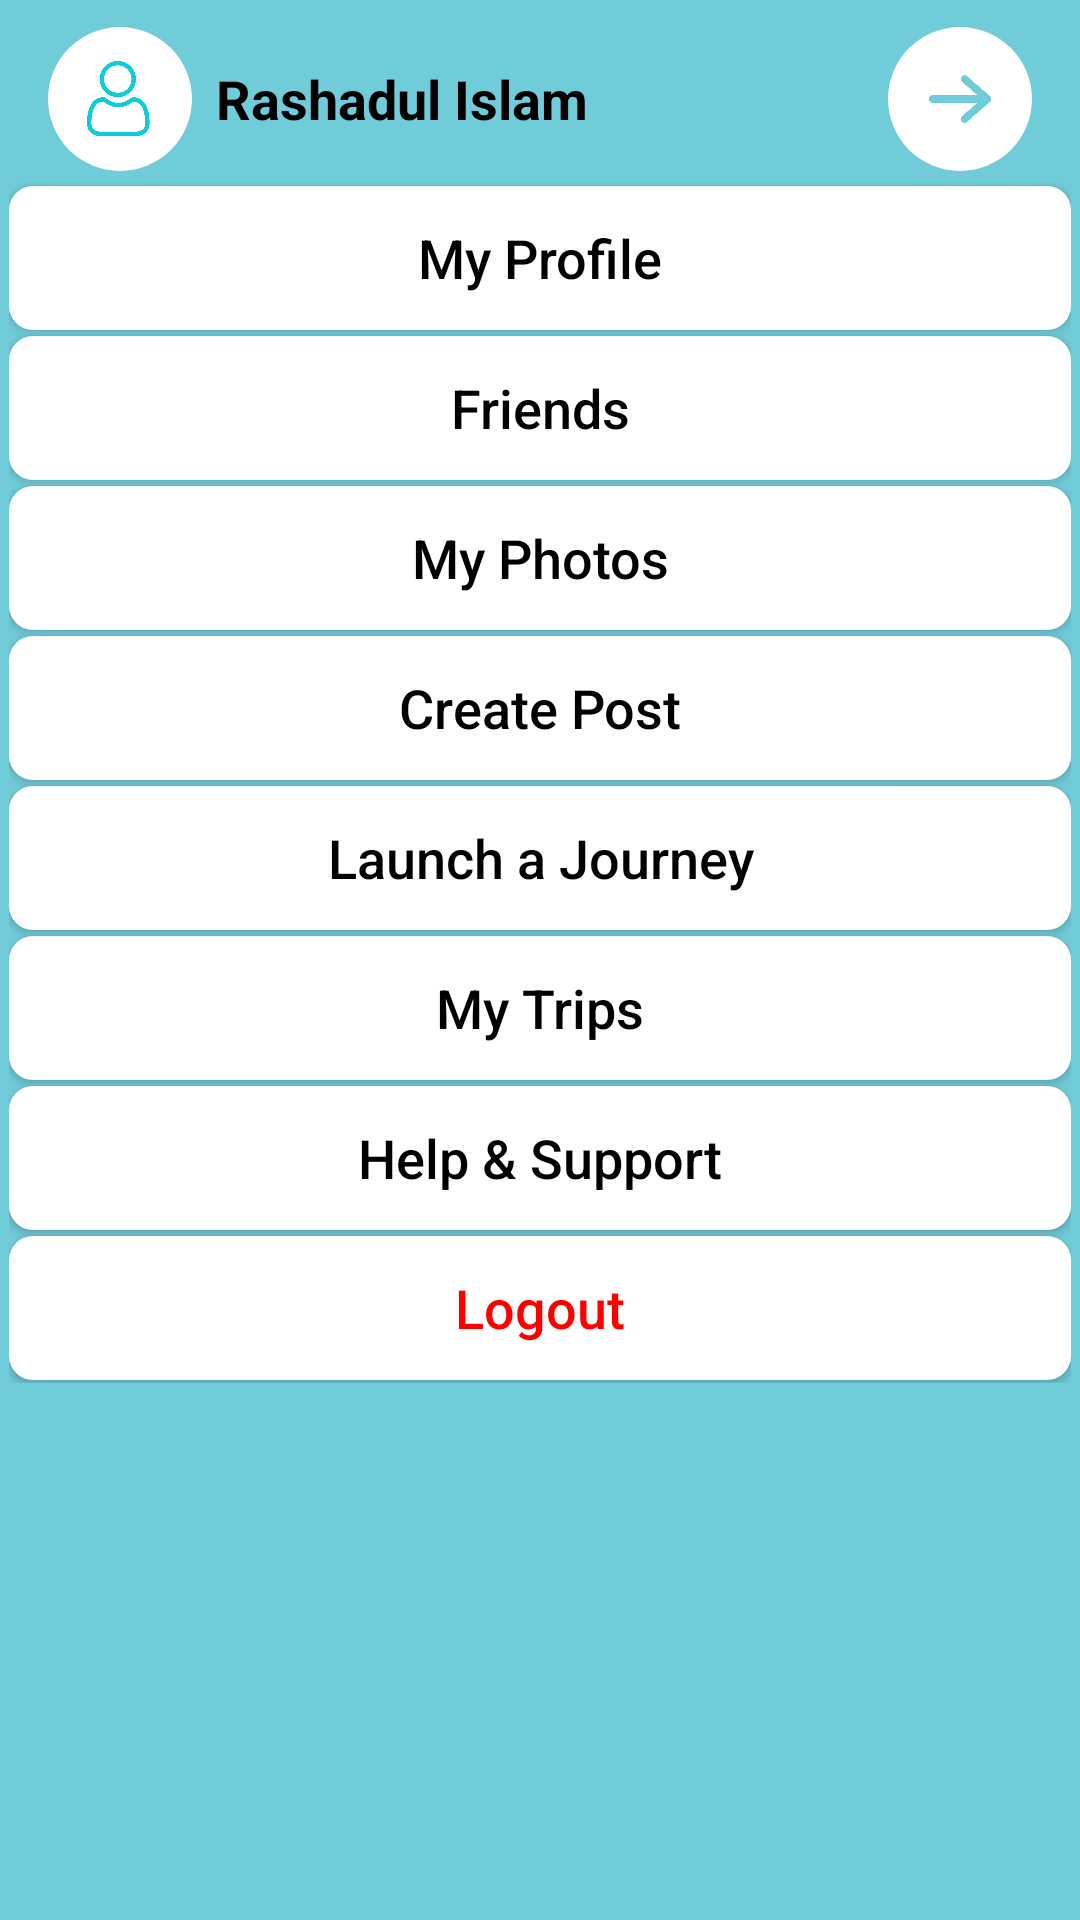

Icons on this 1080 x 1920 Android screen, each with the point to tap as (x,y):
Close sidebar button: (960,99)
